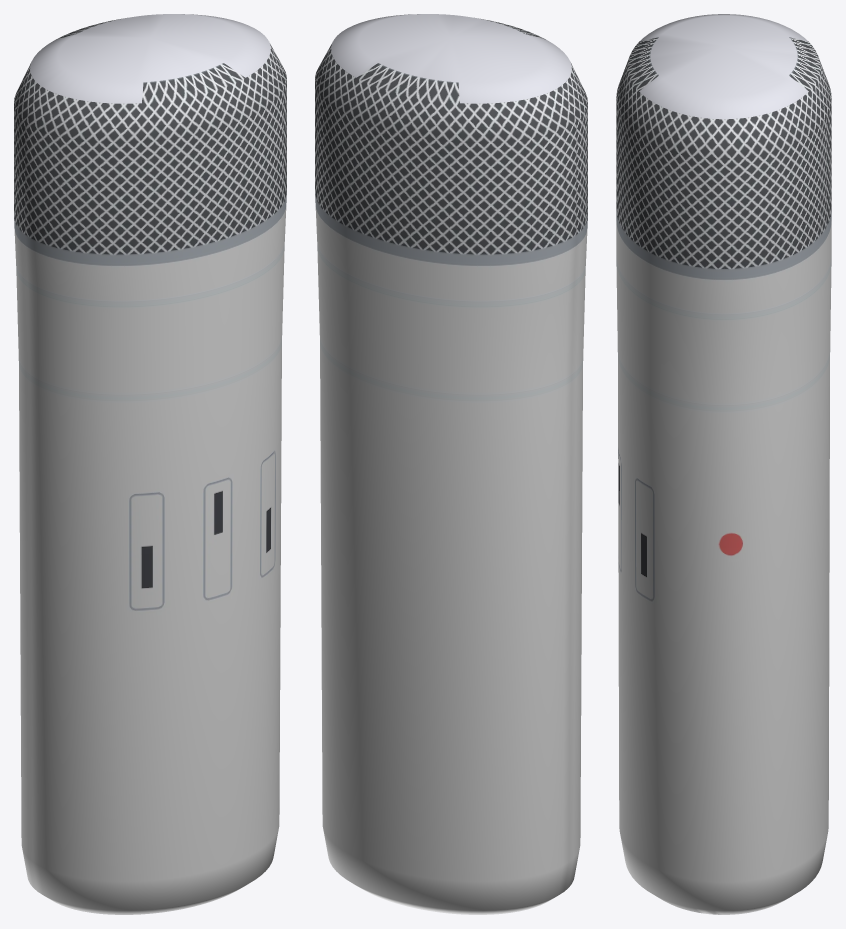
The model's file is akg-c414-xlii.glb.
3 views of the same model, side by side, from view 1: azimuth 30°, elevation 25°; view 2: azimuth 150°, elevation 25°; view 3: azimuth 270°, elevation 25° (orthographic).
Visible parts, largest first — view 1: akg-c414-xlii-body; view 2: akg-c414-xlii-body; view 3: akg-c414-xlii-body.
Part boxes in pixels (<box>): akg-c414-xlii-body: <box>14,14,286,914</box>; akg-c414-xlii-body: <box>315,14,587,914</box>; akg-c414-xlii-body: <box>616,14,831,914</box>.
Bounding box in the file's own units: 0.05 × 0.16 × 0.038.
Materials: 1 (1 with a texture image).
